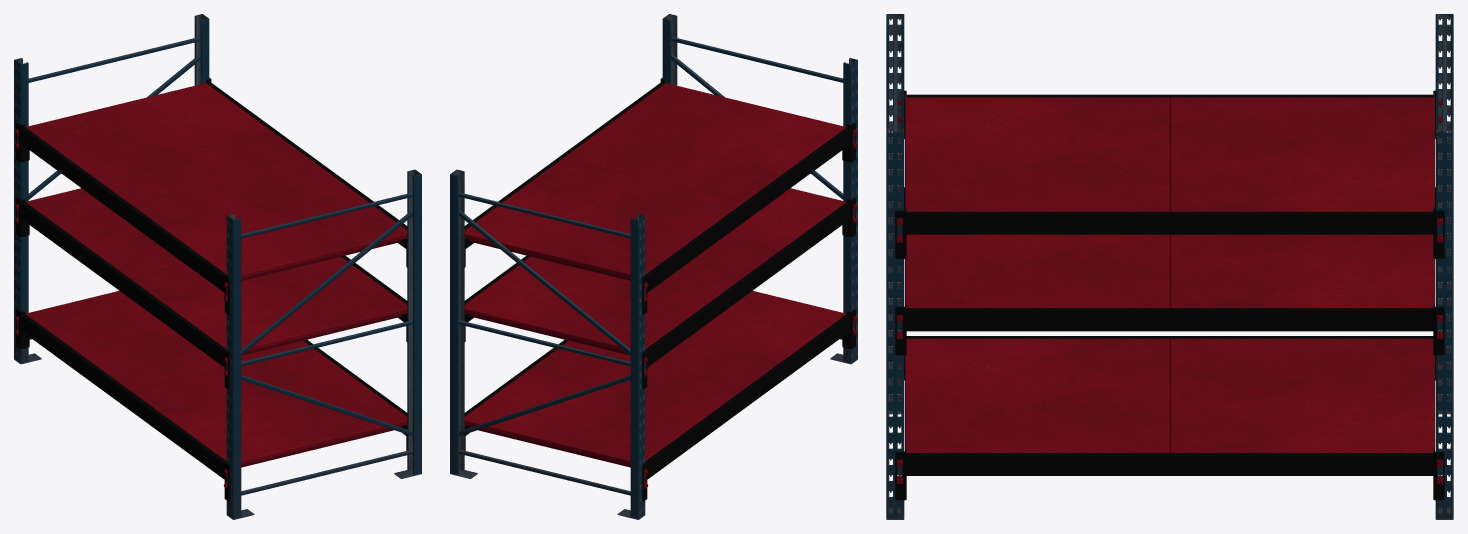
The model's file is Rack_Large_Empty.glb.
3 views of the same model, side by side, from view 1: azimuth 30°, elevation 25°; view 2: azimuth 150°, elevation 25°; view 3: azimuth 270°, elevation 25° (orthographic). The views are drawn at different scales.
Visible parts, largest first — view 1: RackShelf_A2_2x4_01, RackShelf_A1_2x4_03, RackShelf_A2_2x4_02, RackLegs_A1_2x4_01; view 2: RackShelf_A2_2x4_01, RackShelf_A1_2x4_03, RackShelf_A2_2x4_02, RackLegs_A1_2x4_01; view 3: RackShelf_A2_2x4_01, RackShelf_A1_2x4_03, RackShelf_A2_2x4_02, RackLegs_A1_2x4_01.
Part boxes in pixels (x1=…): RackShelf_A2_2x4_01: x1=14, y1=78, x2=407, y2=314; RackShelf_A1_2x4_03: x1=14, y1=291, x2=407, y2=501; RackShelf_A2_2x4_02: x1=14, y1=188, x2=407, y2=389; RackLegs_A1_2x4_01: x1=14, y1=14, x2=421, y2=519; RackShelf_A2_2x4_01: x1=464, y1=78, x2=857, y2=314; RackShelf_A1_2x4_03: x1=464, y1=290, x2=857, y2=501; RackShelf_A2_2x4_02: x1=464, y1=188, x2=857, y2=389; RackLegs_A1_2x4_01: x1=450, y1=14, x2=857, y2=519; RackShelf_A2_2x4_01: x1=895, y1=90, x2=1444, y2=258; RackShelf_A1_2x4_03: x1=895, y1=336, x2=1444, y2=500; RackShelf_A2_2x4_02: x1=895, y1=187, x2=1444, y2=355; RackLegs_A1_2x4_01: x1=886, y1=14, x2=1453, y2=519.
Bounding box in the file's own units: 2.07 × 3.01 × 4.
Materials: 2 (2 with a texture image).
